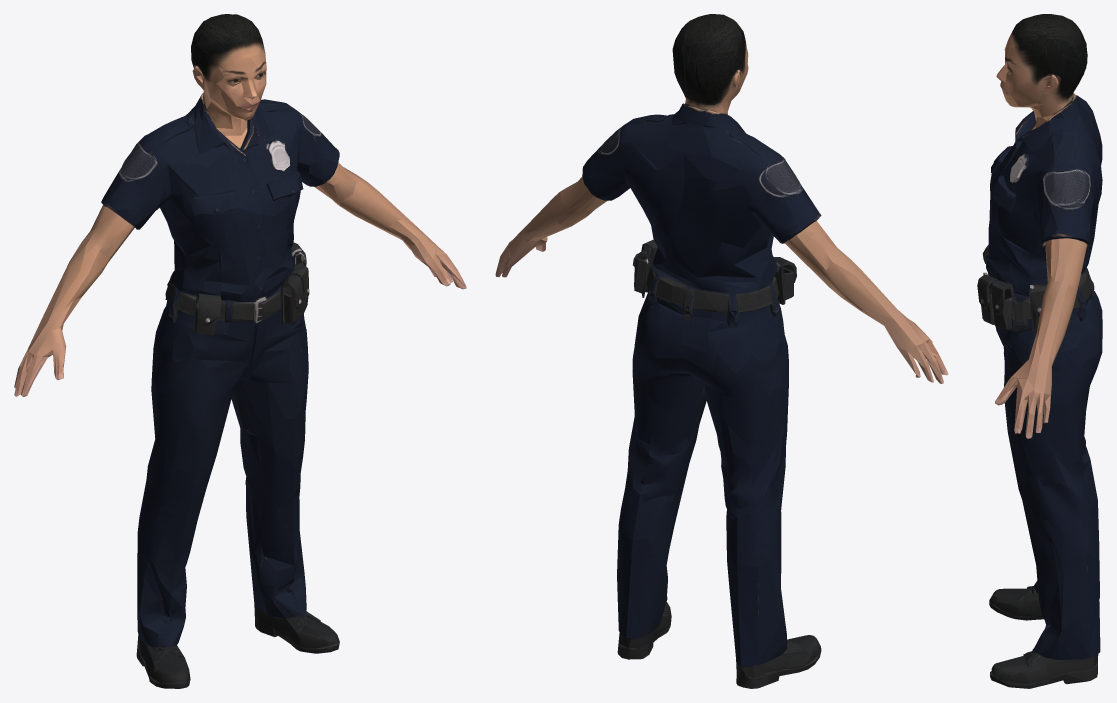
Rendered from image3d.glb.
3 views of the same model, side by side, from view 1: azimuth 30°, elevation 25°; view 2: azimuth 150°, elevation 25°; view 3: azimuth 270°, elevation 25° (orthographic).
Bounding box in the file's own units: 1.4 × 1.9 × 0.3431.
Materials: 1 (1 with a texture image).
